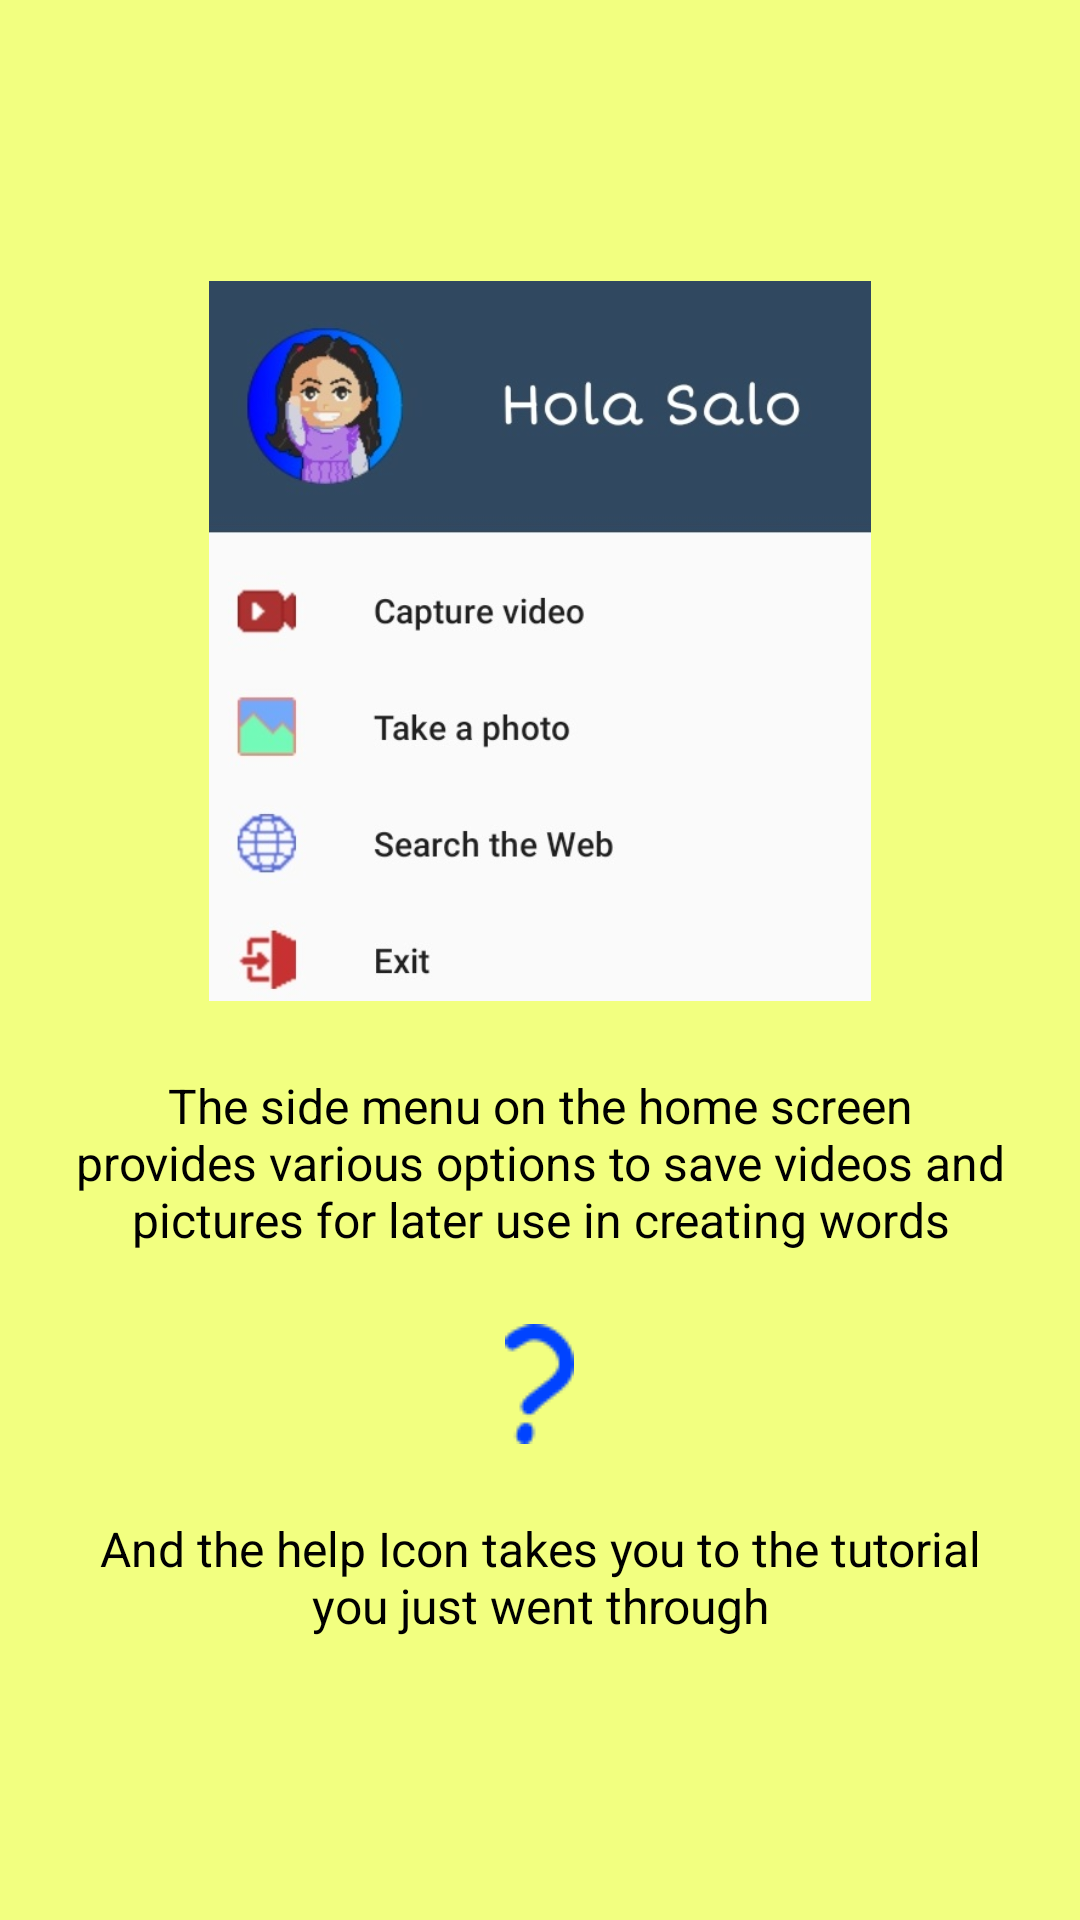

Named icons in this screenshot (1080px×1920px) and their bounding boxes, (x1, y1, x2, y2):
ayudablue: (505, 1324, 574, 1444)
